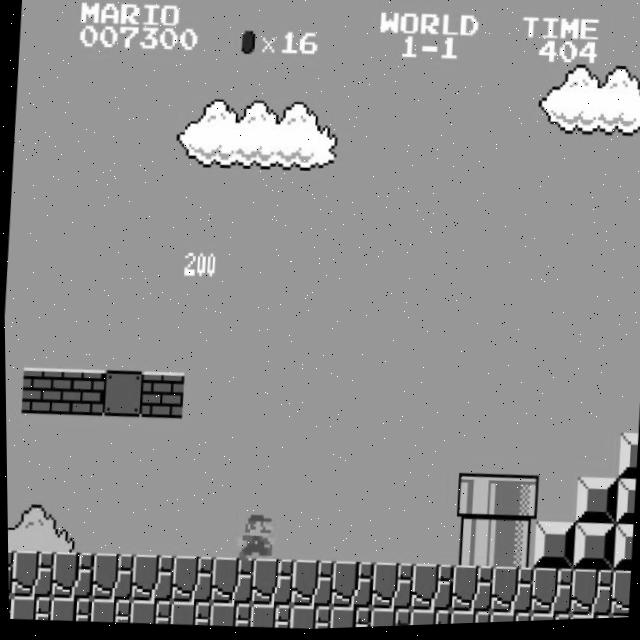1- brick_block: (19, 366, 64, 416), (59, 367, 103, 417), (139, 371, 183, 421)
11- little_mario: (231, 512, 278, 565)
14- pipe: (450, 521, 495, 571), (490, 522, 535, 572)
15- pipe_head: (453, 475, 498, 525), (493, 477, 537, 527)
17- undestructible_block: (48, 550, 93, 601), (567, 571, 612, 622), (8, 549, 53, 599), (88, 552, 133, 602), (128, 554, 173, 604), (168, 555, 213, 605), (208, 557, 253, 607), (248, 558, 293, 608), (288, 560, 333, 610), (448, 566, 492, 617), (488, 568, 532, 619), (328, 562, 372, 612), (368, 563, 412, 613), (408, 565, 452, 615), (528, 570, 572, 620), (7, 594, 50, 622), (87, 597, 130, 625), (127, 599, 170, 627), (207, 602, 250, 630), (47, 596, 90, 623), (167, 601, 210, 628), (247, 604, 290, 631), (286, 606, 329, 632), (326, 606, 369, 631), (607, 573, 629, 621), (366, 608, 409, 630), (406, 610, 449, 628), (446, 612, 489, 627), (486, 614, 529, 626), (526, 615, 569, 625), (566, 616, 609, 624), (6, 549, 12, 596)
3- empty_block: (99, 369, 143, 419)
9- hard_block: (570, 525, 615, 576), (530, 524, 575, 574), (573, 480, 617, 531), (610, 527, 632, 575), (615, 437, 637, 483), (613, 482, 634, 529)
